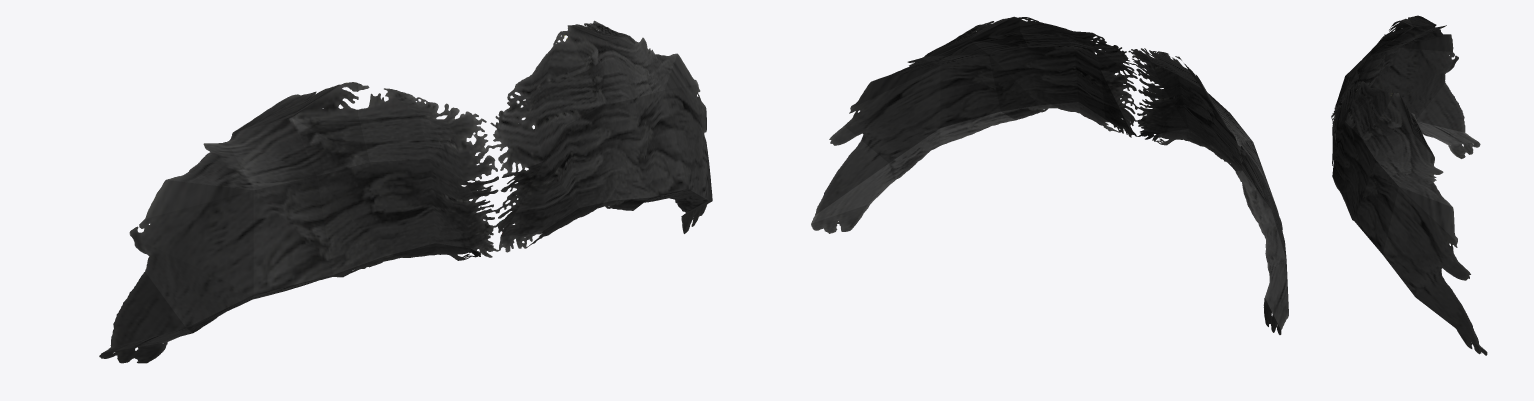
File: mhw_grinsegold_moustache.glb
3 renders of one model, left to right at view 1: azimuth 30°, elevation 25°; view 2: azimuth 150°, elevation 25°; view 3: azimuth 270°, elevation 25°, orthographic. The views are drawn at different scales.
Parts seen in each view (by area): view 1: mhw_grinsegold_moustache; view 2: mhw_grinsegold_moustache; view 3: mhw_grinsegold_moustache.
Part boxes in pixels (box(x1,y1,x2,y2)): mhw_grinsegold_moustache: box(99, 20, 712, 363); mhw_grinsegold_moustache: box(811, 16, 1288, 334); mhw_grinsegold_moustache: box(1331, 15, 1487, 355).
Bounding box in the file's own units: 0.0763 × 0.0327 × 0.0251.
1 material, 1 textured.
